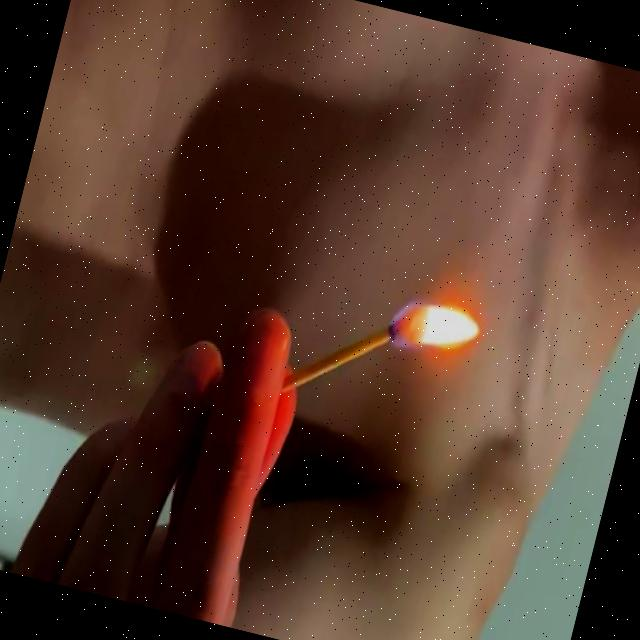fire: (381, 283, 491, 376)
